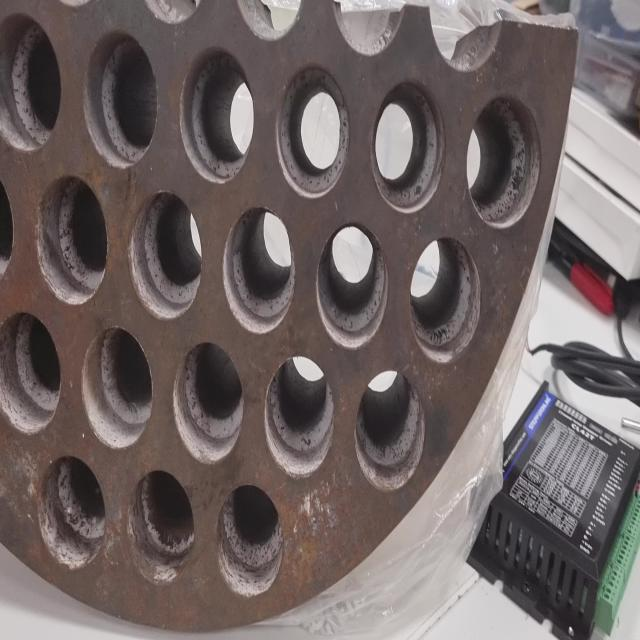Hole: (83, 29, 158, 170), (180, 46, 254, 185), (466, 93, 542, 228), (371, 78, 445, 214), (276, 62, 349, 199), (129, 190, 202, 320), (36, 174, 108, 305), (222, 205, 295, 334), (408, 235, 481, 363), (316, 221, 389, 348), (172, 340, 244, 464), (264, 354, 335, 478), (82, 326, 153, 449), (354, 370, 426, 491), (1, 12, 62, 153), (36, 453, 106, 569), (128, 467, 194, 585), (217, 482, 284, 598), (1, 310, 62, 434)
